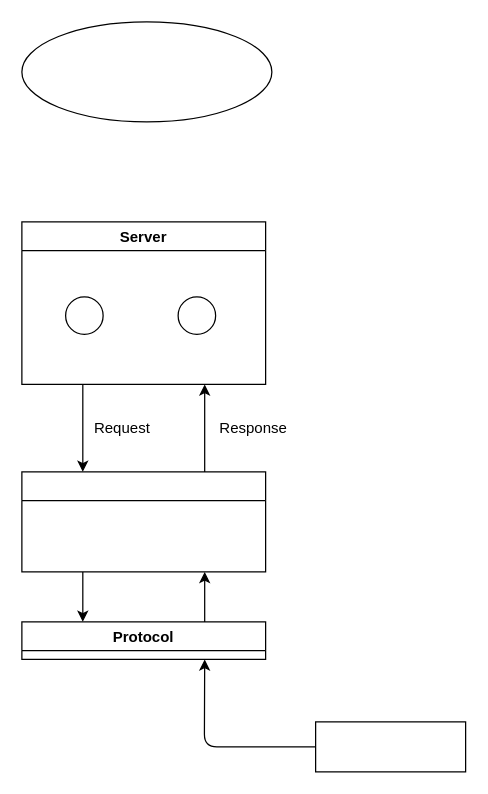
Some shapes in this 488 by 794 pixel diagram are drawn without their labels. Here are the shapes that lost their labels. From the top down, the centre of each, then its label:
point (143, 521): Session
point (390, 746): Serial Communication
